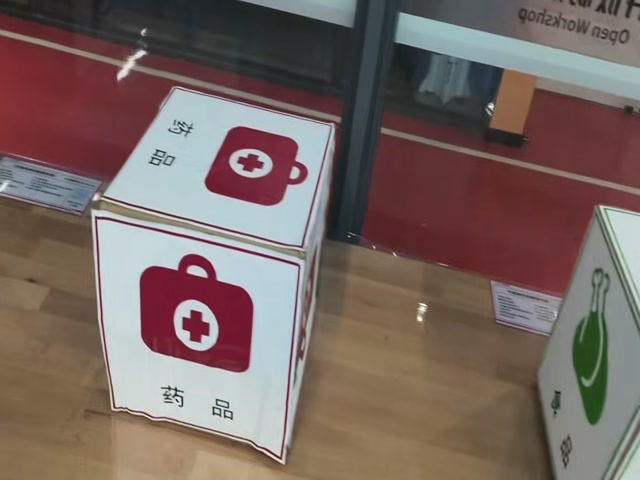Cube_food: (595, 200, 640, 332)
Cube_medicine: (97, 76, 341, 265)
